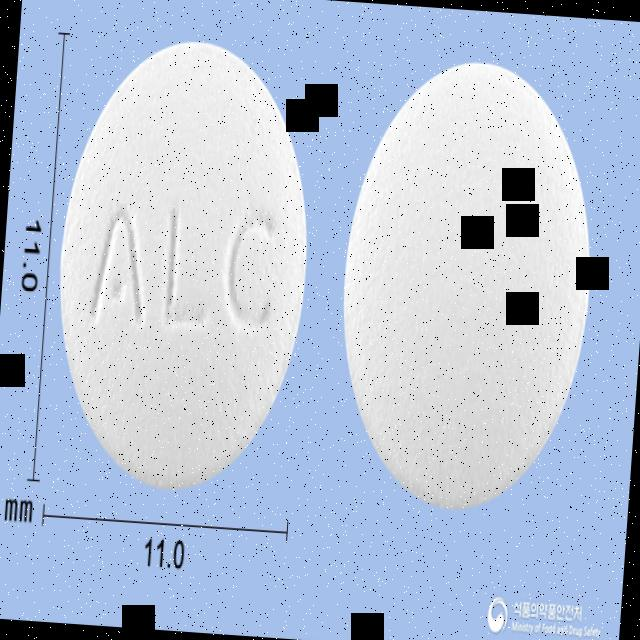Ciprofloxacin Hcl Tab- Arlico: (41, 22, 325, 505)
